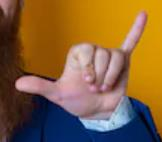clockwise: (9, 9, 149, 111)
